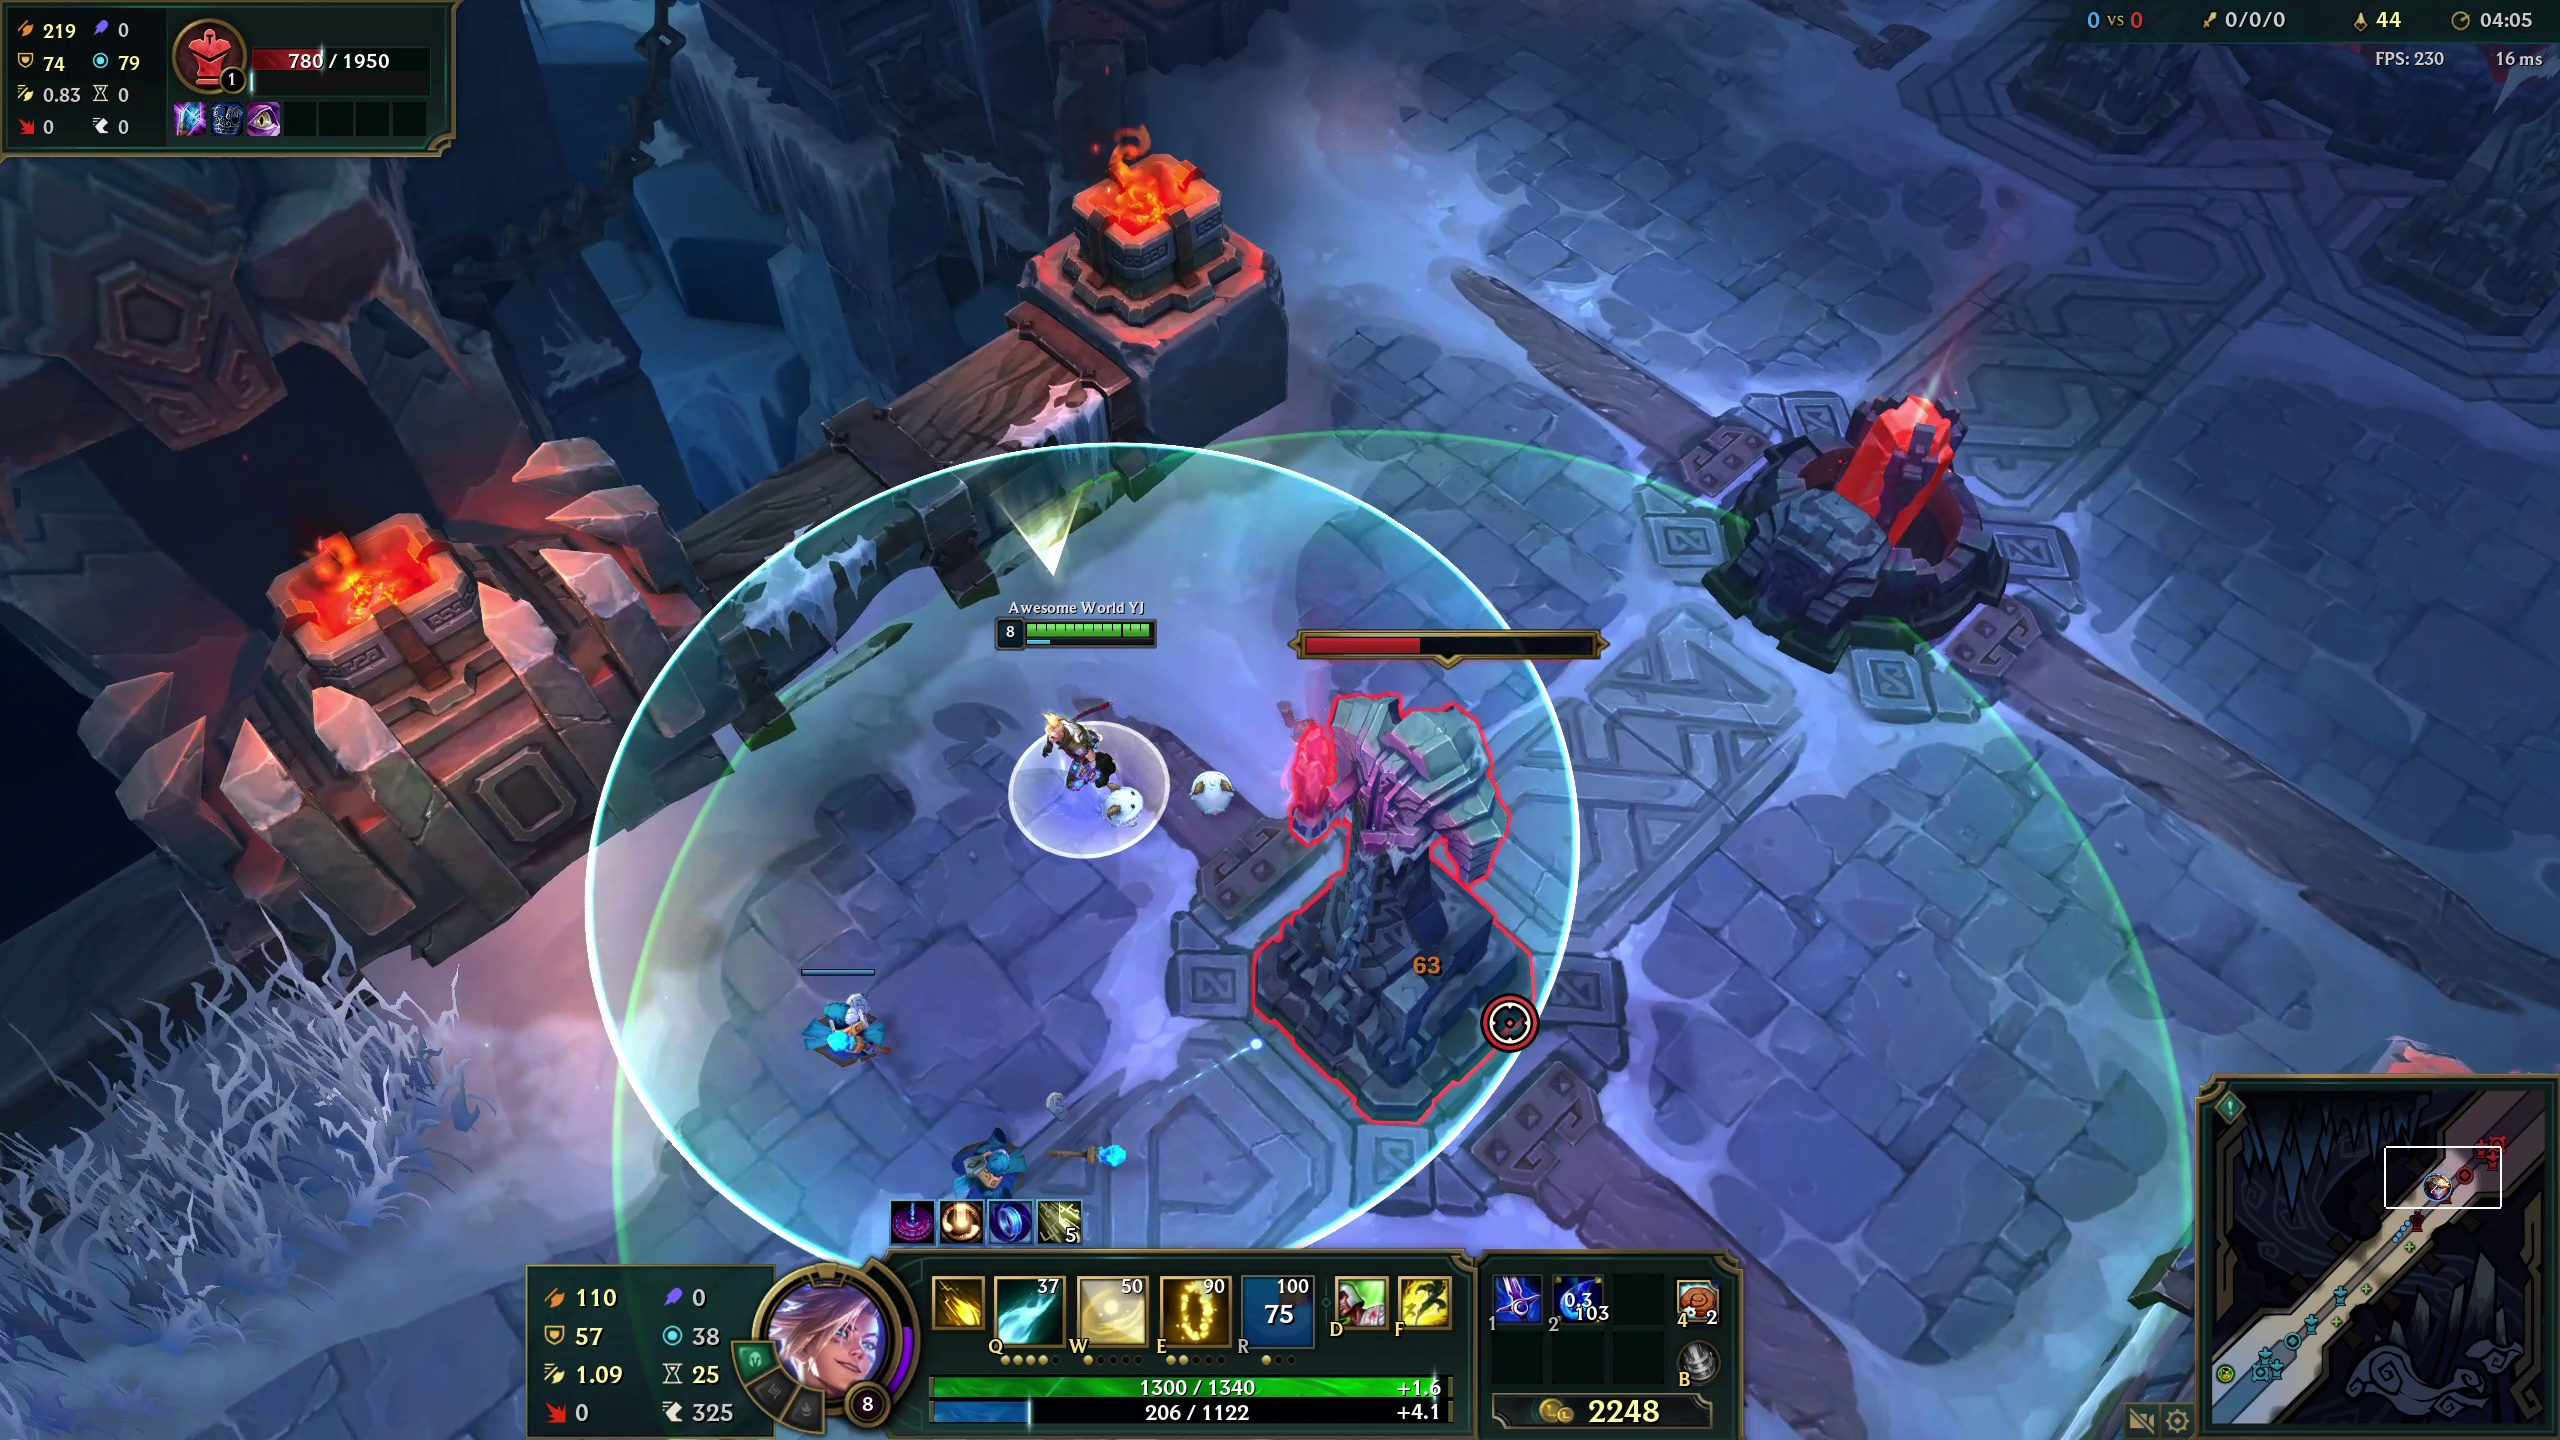EZ: (992, 587, 1159, 842)
Glass: (60, 1113, 417, 1264)
Inhibitor: (1718, 396, 1987, 680)
MyMinion: (782, 965, 890, 1078)
Turret: (1285, 615, 1538, 1094), (2409, 169, 2534, 346), (2034, 47, 2185, 142)
